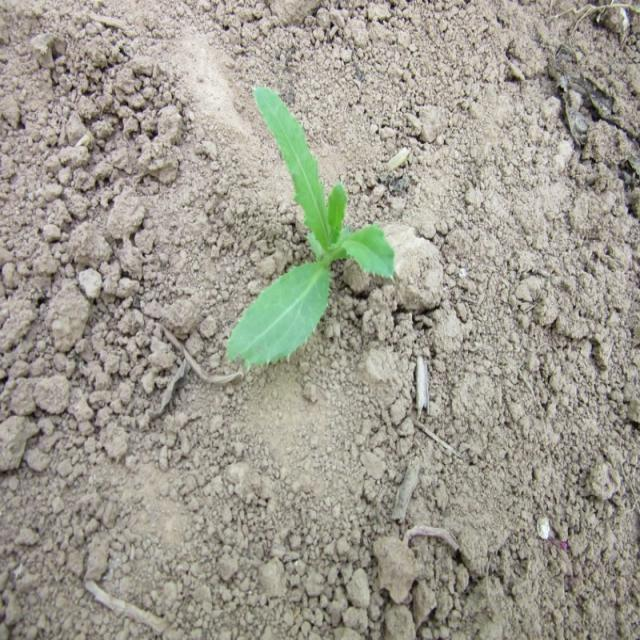cs: (220, 79, 400, 372)
